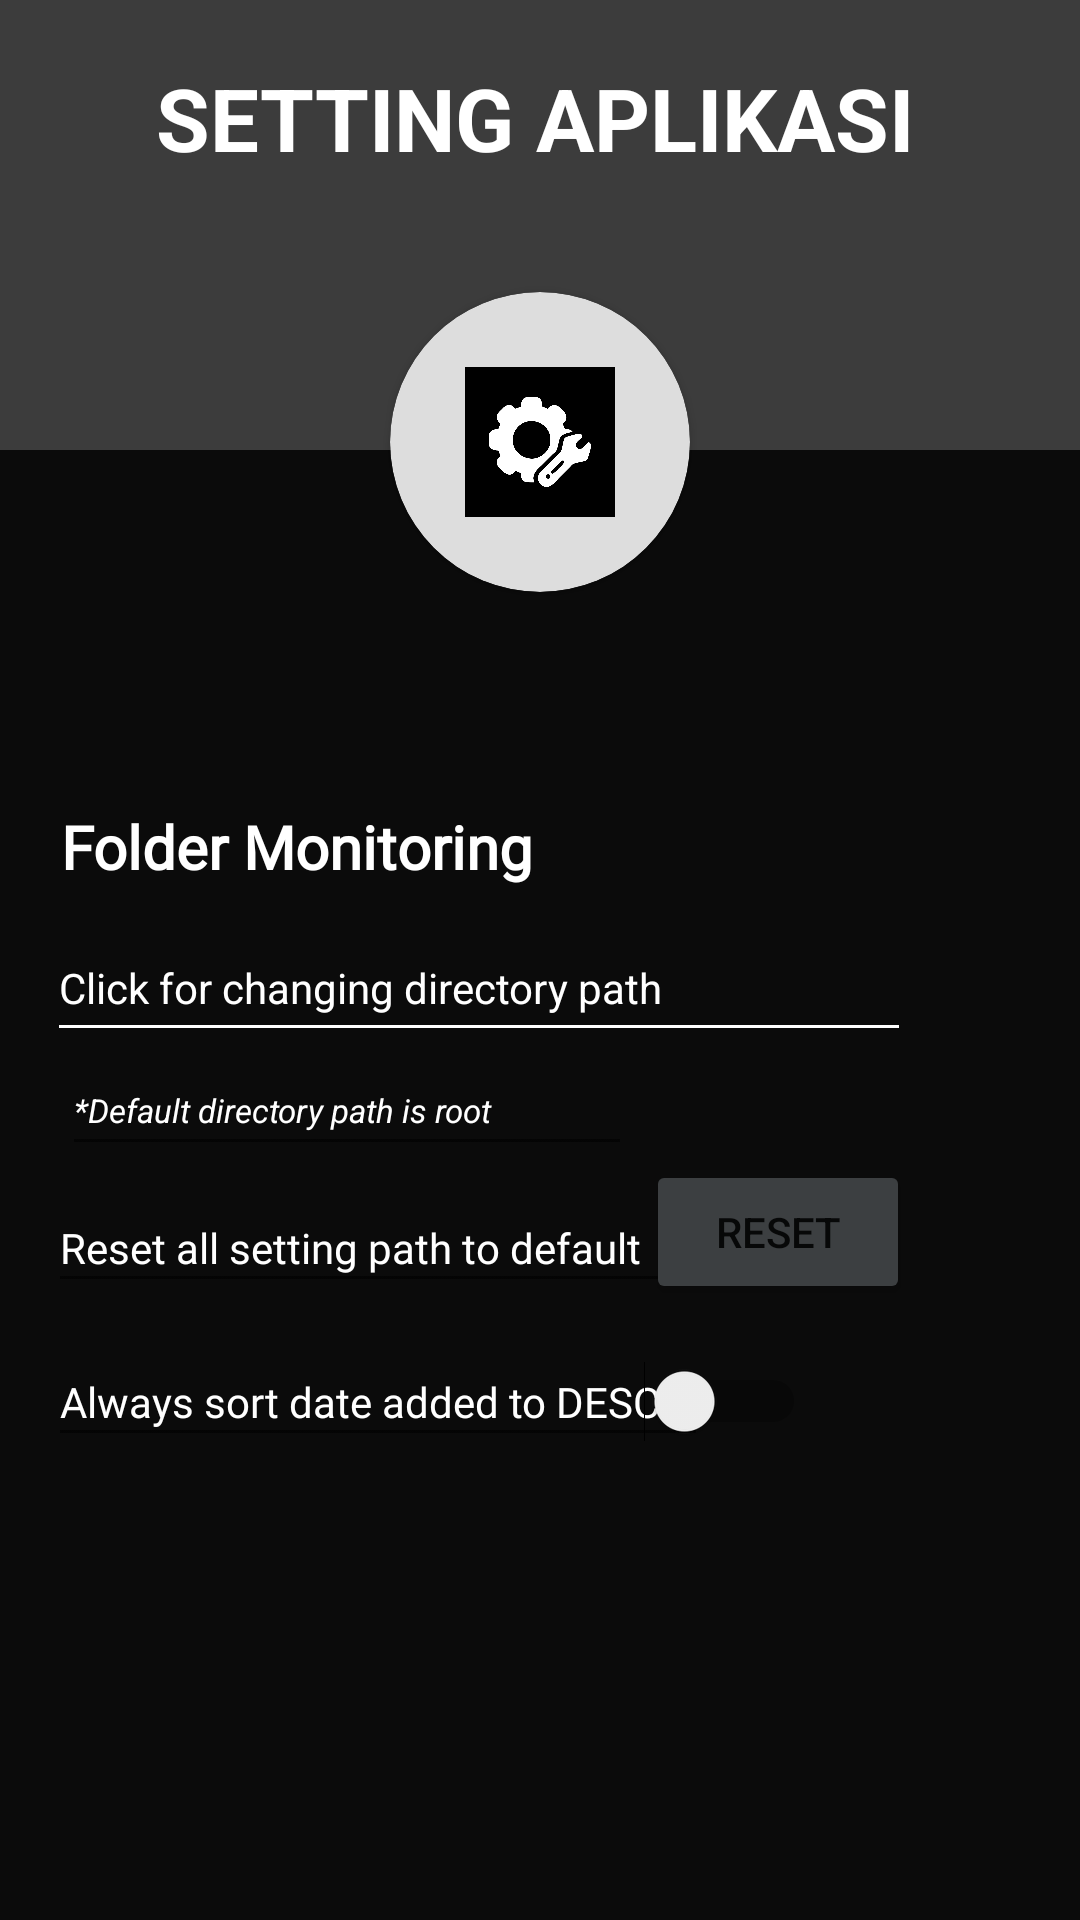

Icon click points for this 1080 x 1920 phone screenshot, format (x,y):
setting: (540,442)
